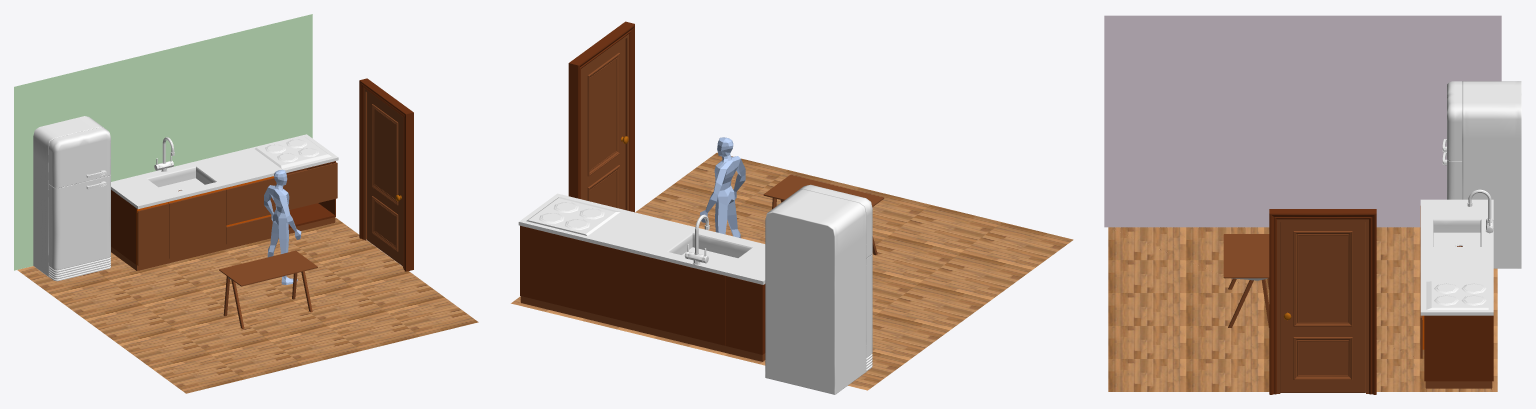
File: Dev_glTF_interactions.gltf
The picture shows the model from 3 angles, left to right: view 1: azimuth 30°, elevation 25°; view 2: azimuth 150°, elevation 25°; view 3: azimuth 270°, elevation 25°; orthographic projection. The views are drawn at different scales.
Visible parts, largest first — view 1: Plane, Plane_2, door_btm, kitchen_worktop, door_body, door_frame_outer, door_02, door_top, fridge_base, kitchen_body, drawer_02_top_2, door_01 (+10 smaller); view 2: Plane, fridge_base, kitchen_body, kitchen_worktop, door_body, door_frame_outer, BASE_Low_Poly_Man, kitchen_body_btm, door_body_ornaments, kitchen_hot_plate_body, desk_top, kitchen_hot_plates (+3 smaller); view 3: Plane_3, Plane, door_body, fridge_base, kitchen_worktop, kitchen_body, door_frame_outer, door_body_ornaments, desk_top, door_frame_inner, door_top, kitchen_hot_plate_body (+4 smaller).
Boxes of the visible parts, <box> form: Plane: <box>17,217,478,393</box>; Plane_2: <box>14,14,312,270</box>; door_btm: <box>49,175,110,281</box>; kitchen_worktop: <box>111,134,338,209</box>; door_body: <box>367,92,402,266</box>; door_frame_outer: <box>359,78,413,271</box>; door_02: <box>169,189,226,258</box>; door_top: <box>49,127,110,188</box>; fridge_base: <box>33,116,103,276</box>; kitchen_body: <box>111,161,335,264</box>; drawer_02_top_2: <box>283,162,337,209</box>; door_01: <box>137,203,169,265</box>; Plane: <box>511,152,1073,390</box>; fridge_base: <box>765,189,866,394</box>; kitchen_body: <box>520,225,765,354</box>; kitchen_worktop: <box>518,193,765,284</box>; door_body: <box>582,39,625,209</box>; door_frame_outer: <box>568,21,634,212</box>; BASE_Low_Poly_Man: <box>700,137,745,238</box>; kitchen_body_btm: <box>520,296,765,361</box>; door_body_ornaments: <box>587,53,619,208</box>; kitchen_hot_plate_body: <box>526,197,620,235</box>; desk_top: <box>763,174,884,206</box>; kitchen_hot_plates: <box>539,202,604,229</box>; Plane_3: <box>1104,15,1501,227</box>; Plane: <box>1108,227,1497,391</box>; door_body: <box>1280,222,1365,392</box>; fridge_base: <box>1462,81,1521,268</box>; kitchen_worktop: <box>1420,199,1493,315</box>; kitchen_body: <box>1424,246,1493,381</box>; door_frame_outer: <box>1269,209,1376,394</box>; door_body_ornaments: <box>1293,231,1352,379</box>; desk_top: <box>1223,234,1269,278</box>; door_frame_inner: <box>1277,219,1368,393</box>; door_top: <box>1447,81,1462,161</box>; kitchen_hot_plate_body: <box>1426,281,1488,309</box>.
Size of the model in its own units: 5.16 by 3.01 by 5.36.
39 materials, 1 textured.
